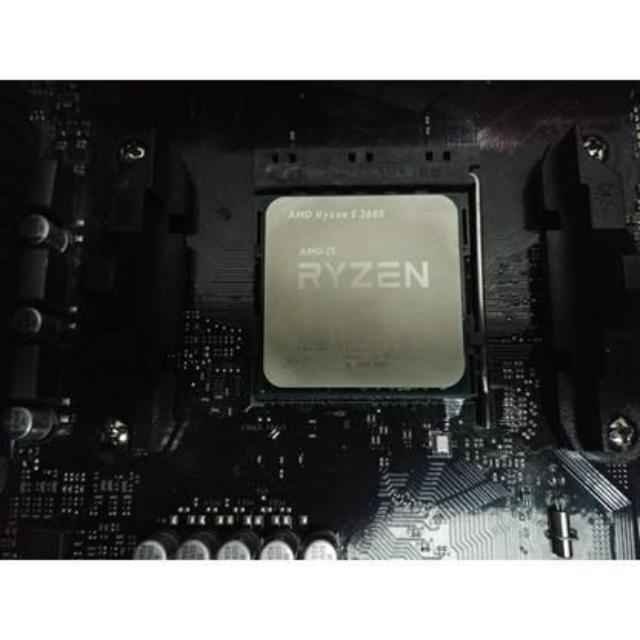CPU: (261, 192, 467, 390)
